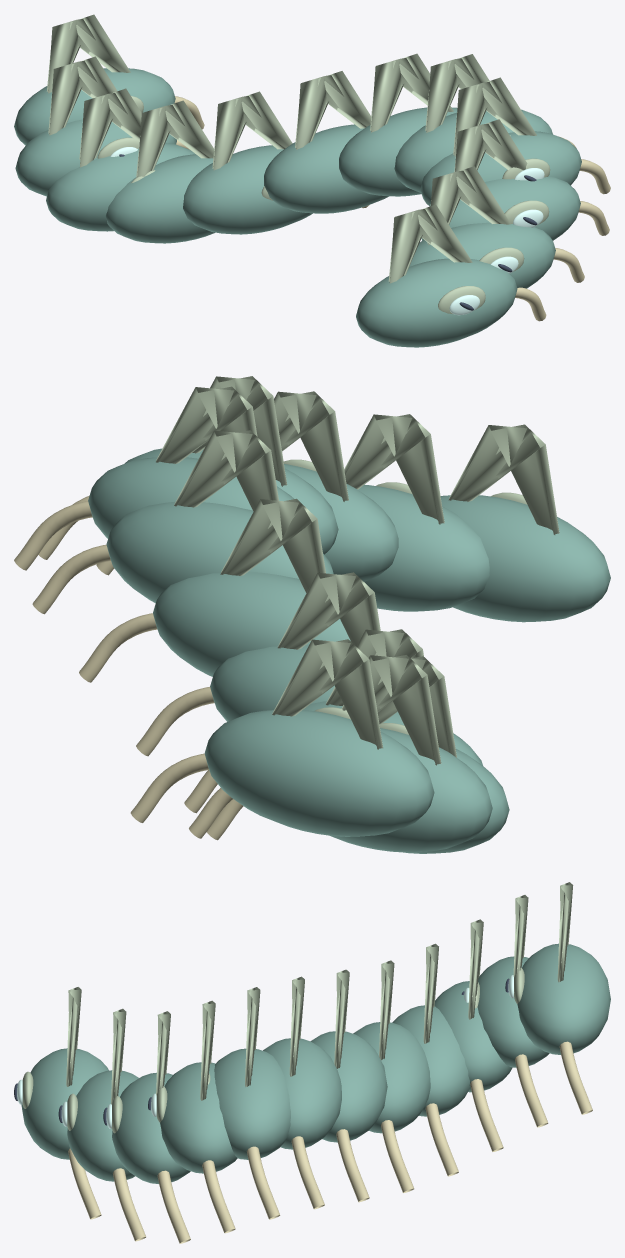
File: bio_ribbon_colony_04_near.glb
3 renders of one model, top to bottom at view 1: azimuth 30°, elevation 25°; view 2: azimuth 150°, elevation 25°; view 3: azimuth 270°, elevation 25°, orthographic. The views are drawn at different scales.
Visible parts, largest first — view 1: Overlapping folded ribbon, Overlapping folded ribbon.007, Overlapping folded ribbon.006, Overlapping folded ribbon.008, Overlapping folded ribbon.009, Overlapping folded ribbon.005, Overlapping folded ribbon.001, Raised pleated edge, Overlapping folded ribbon.002, Overlapping folded ribbon.010, Overlapping folded ribbon.011, Overlapping folded ribbon.003 (+16 smaller); view 2: Overlapping folded ribbon.011, Overlapping folded ribbon, Overlapping folded ribbon.006, Overlapping folded ribbon.005, Overlapping folded ribbon.001, Overlapping folded ribbon.010, Raised pleated edge, Raised pleated edge.011, Raised pleated edge.001, Overlapping folded ribbon.004, Raised pleated edge.006, Overlapping folded ribbon.002 (+20 smaller); view 3: Overlapping folded ribbon.011, Overlapping folded ribbon.004, Overlapping folded ribbon.003, Overlapping folded ribbon.005, Overlapping folded ribbon.006, Overlapping folded ribbon, Overlapping folded ribbon.007, Overlapping folded ribbon.002, Overlapping folded ribbon.001, Overlapping folded ribbon.008, Overlapping folded ribbon.010, Overlapping folded ribbon.009 (+24 smaller).
Part boxes in pixels (bbox=[...]): Overlapping folded ribbon: bbox=[356, 258, 517, 347]; Overlapping folded ribbon.007: bbox=[183, 145, 312, 234]; Overlapping folded ribbon.006: bbox=[264, 124, 388, 213]; Overlapping folded ribbon.008: bbox=[106, 154, 214, 243]; Overlapping folded ribbon.009: bbox=[46, 143, 195, 231]; Overlapping folded ribbon.005: bbox=[339, 107, 457, 196]; Overlapping folded ribbon.001: bbox=[409, 222, 555, 288]; Raised pleated edge: bbox=[388, 204, 485, 314]; Overlapping folded ribbon.002: bbox=[421, 177, 580, 240]; Overlapping folded ribbon.010: bbox=[15, 119, 176, 196]; Overlapping folded ribbon.011: bbox=[14, 68, 175, 145]; Overlapping folded ribbon.003: bbox=[420, 131, 581, 206]; Overlapping folded ribbon.011: bbox=[204, 710, 434, 836]; Overlapping folded ribbon: bbox=[440, 495, 610, 622]; Overlapping folded ribbon.006: bbox=[153, 572, 350, 676]; Overlapping folded ribbon.005: bbox=[106, 501, 333, 602]; Overlapping folded ribbon.001: bbox=[358, 484, 489, 611]; Overlapping folded ribbon.010: bbox=[330, 728, 492, 852]; Raised pleated edge: bbox=[448, 424, 559, 534]; Raised pleated edge.011: bbox=[272, 639, 382, 749]; Raised pleated edge.001: bbox=[344, 414, 444, 524]; Overlapping folded ribbon.004: bbox=[88, 457, 293, 538]; Raised pleated edge.006: bbox=[220, 498, 325, 592]; Overlapping folded ribbon.002: bbox=[284, 464, 398, 581]; Overlapping folded ribbon.011: bbox=[517, 943, 610, 1054]; Overlapping folded ribbon.004: bbox=[214, 1048, 290, 1159]; Overlapping folded ribbon.003: bbox=[160, 1062, 237, 1173]; Overlapping folded ribbon.005: bbox=[263, 1038, 341, 1149]; Overlapping folded ribbon.006: bbox=[310, 1031, 387, 1142]; Overlapping folded ribbon: bbox=[21, 1048, 108, 1159]; Overlapping folded ribbon.007: bbox=[353, 1022, 430, 1133]; Overlapping folded ribbon.002: bbox=[112, 1072, 190, 1183]; Overlapping folded ribbon.001: bbox=[67, 1070, 138, 1181]; Overlapping folded ribbon.008: bbox=[392, 1005, 469, 1116]; Overlapping folded ribbon.010: bbox=[477, 956, 549, 1067]; Overlapping folded ribbon.009: bbox=[434, 981, 512, 1092].
Bounding box in the file's own units: 2.82 × 1.25 × 3.04.
